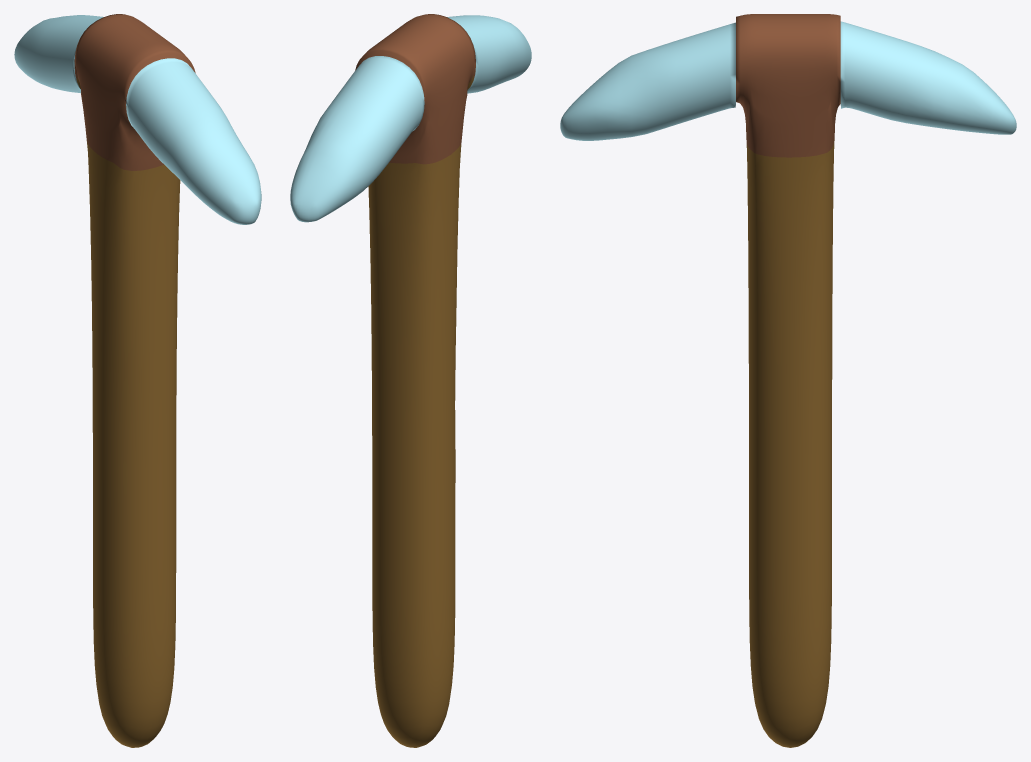
The model's file is pick.fbx.
The picture shows the model from 3 angles, left to right: view 1: azimuth 30°, elevation 25°; view 2: azimuth 150°, elevation 25°; view 3: azimuth 270°, elevation 25°; orthographic projection.
Visible parts, largest first — view 1: Cube; view 2: Cube; view 3: Cube.
Boxes of the visible parts, box(x1,y1,x2,y2) form: Cube: box(14, 14, 261, 747); Cube: box(290, 14, 531, 747); Cube: box(560, 14, 1016, 747).
Size of the model in its own units: 193 by 1773 by 1008.
